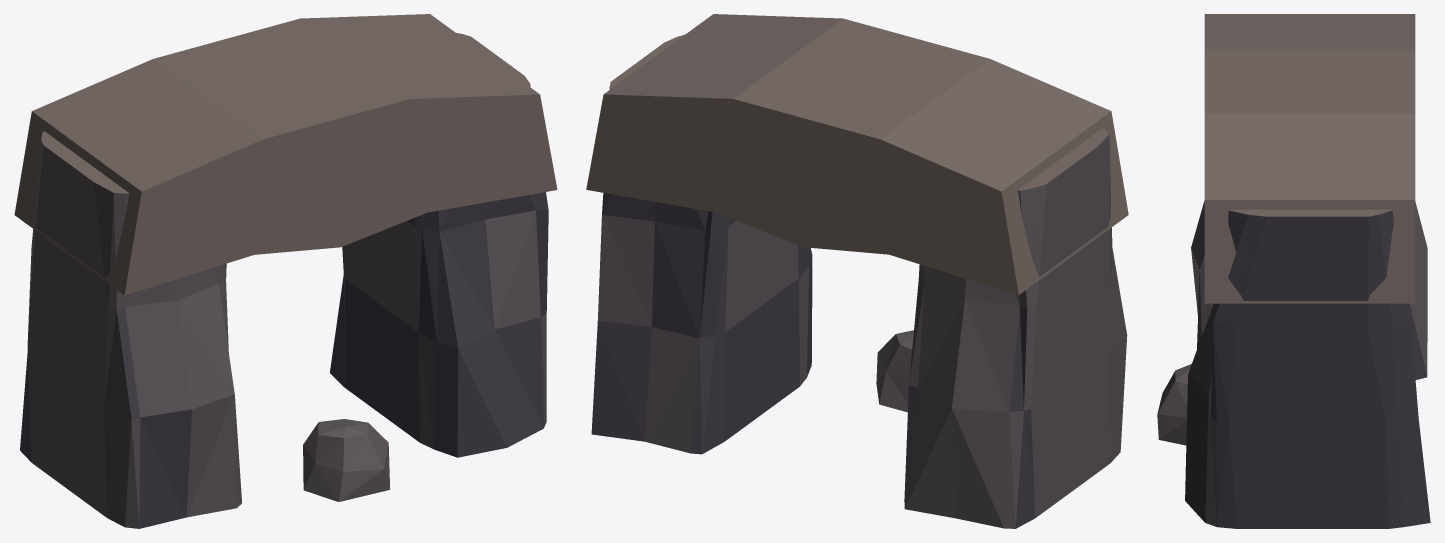
File: cave_arch.fbx
The picture shows the model from 3 angles, left to right: view 1: azimuth 30°, elevation 25°; view 2: azimuth 150°, elevation 25°; view 3: azimuth 270°, elevation 25°; orthographic projection. The views are drawn at different scales.
Parts seen in each view (by area): view 1: cave_arch; view 2: cave_arch; view 3: cave_arch.
Boxes of the visible parts, x1,y1,x2,y2 form: cave_arch: (14,14,557,528); cave_arch: (586,14,1128,528); cave_arch: (1157,14,1430,528).
Bounding box in the file's own units: 5 × 4 × 2.86.
